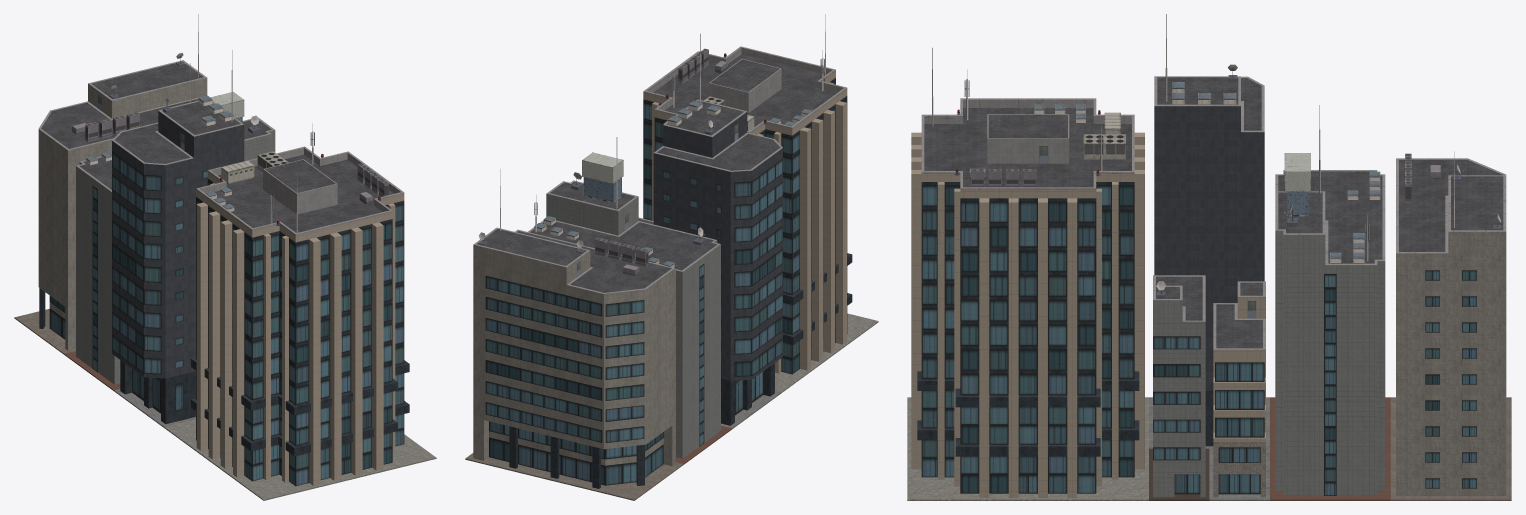
File: jctlowBldSetJ.fbx
The picture shows the model from 3 angles, left to right: view 1: azimuth 30°, elevation 25°; view 2: azimuth 150°, elevation 25°; view 3: azimuth 270°, elevation 25°; orthographic projection. The views are drawn at different scales.
Parts seen in each view (by area): view 1: jctlowBldSetJ; view 2: jctlowBldSetJ; view 3: jctlowBldSetJ.
Boxes of the visible parts, bbox=[...] form: jctlowBldSetJ: bbox=[14, 14, 436, 500]; jctlowBldSetJ: bbox=[465, 14, 878, 500]; jctlowBldSetJ: bbox=[907, 14, 1511, 500].
Bounding box in the file's own units: 2555 × 4703 × 6000.
17 materials, 17 textured.
